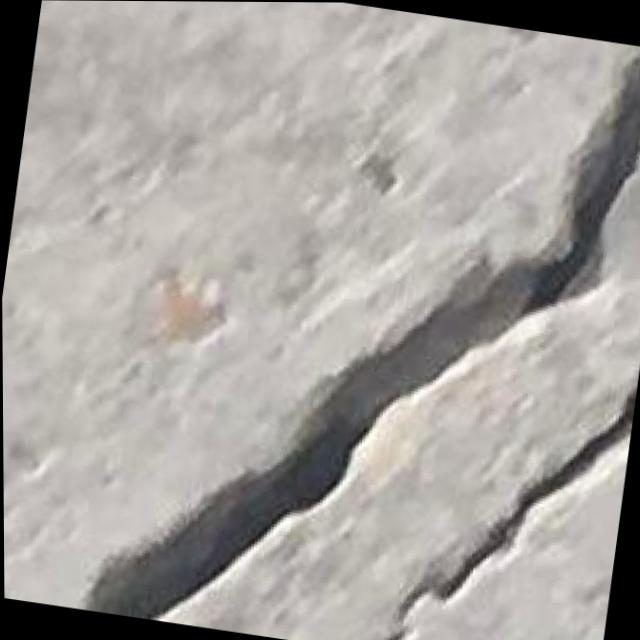Crack: (70, 0, 640, 640)
